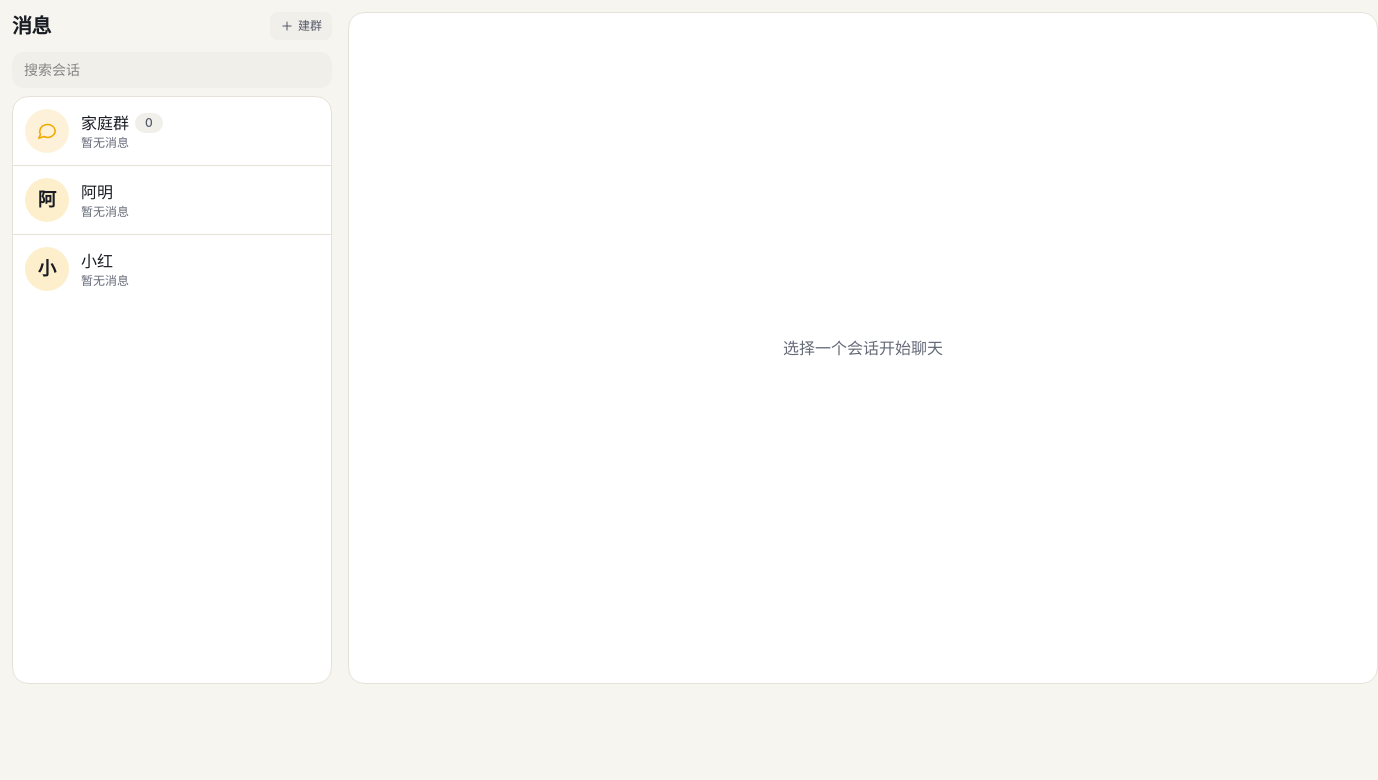
Test: ChatPage 会话列表按名字搜索过滤 › 查询不足 2 字（如"红"）不触发全局搜索（防每键一请求）
Check: the text "阿明" is shown, box [81, 180, 113, 204]
In the search field labelled "搜索会话": (172, 70) [12, 52, 332, 88], type "红"
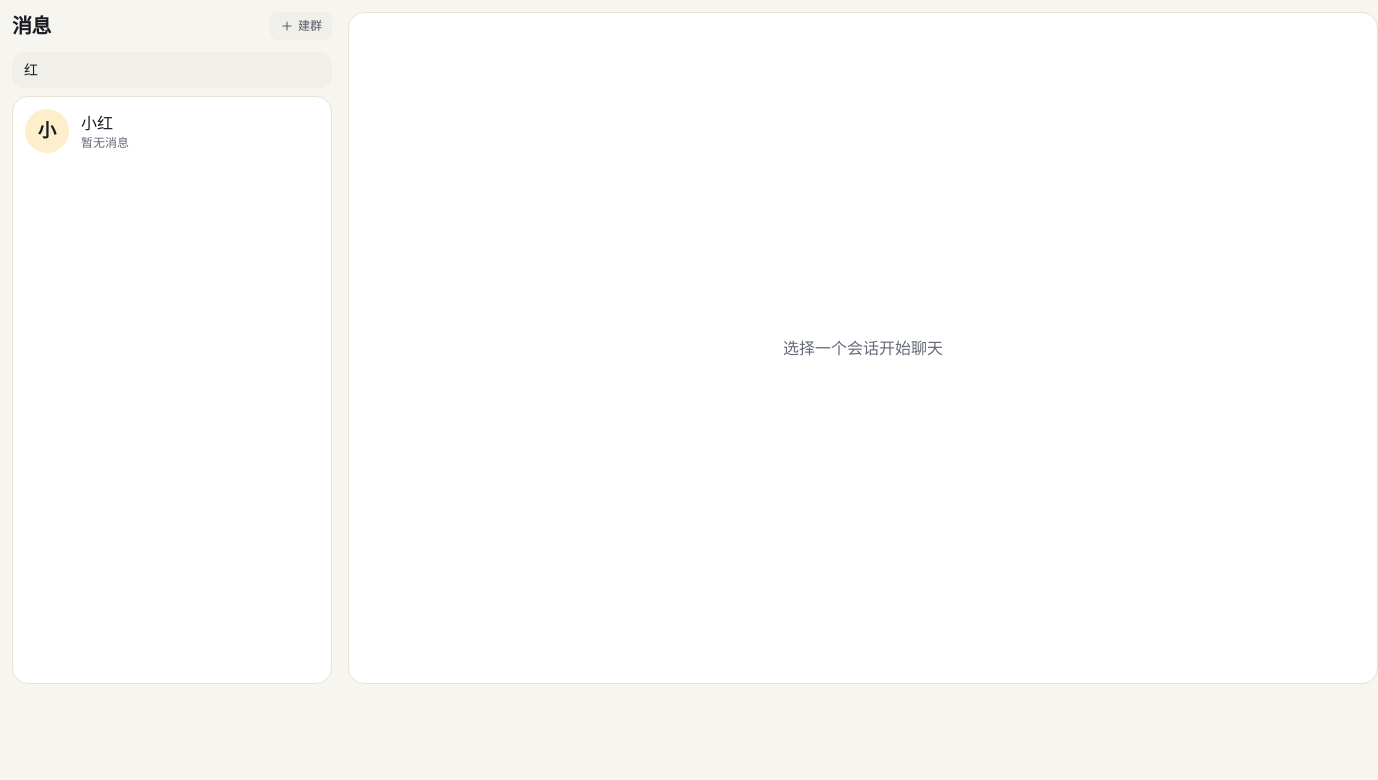
Check: the button "阿明" is gone
